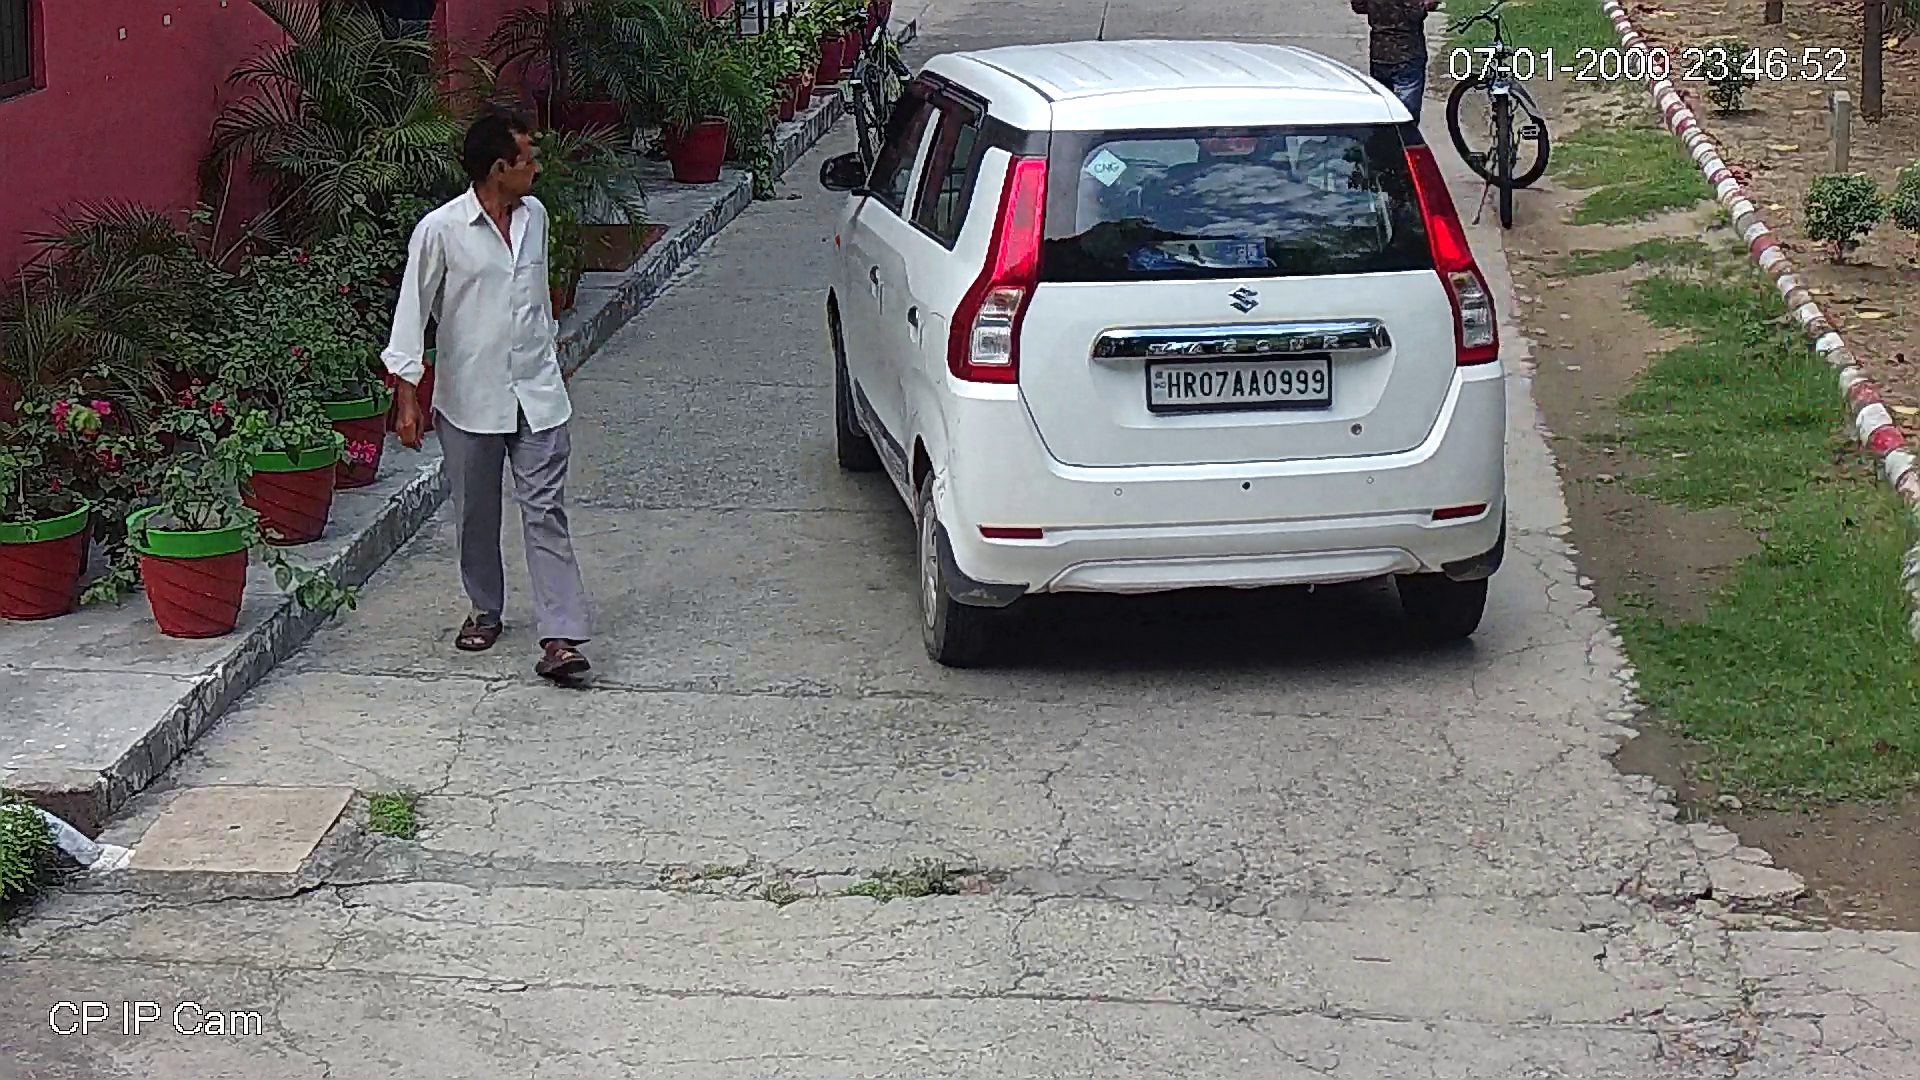plate: (1153, 359, 1331, 408)
